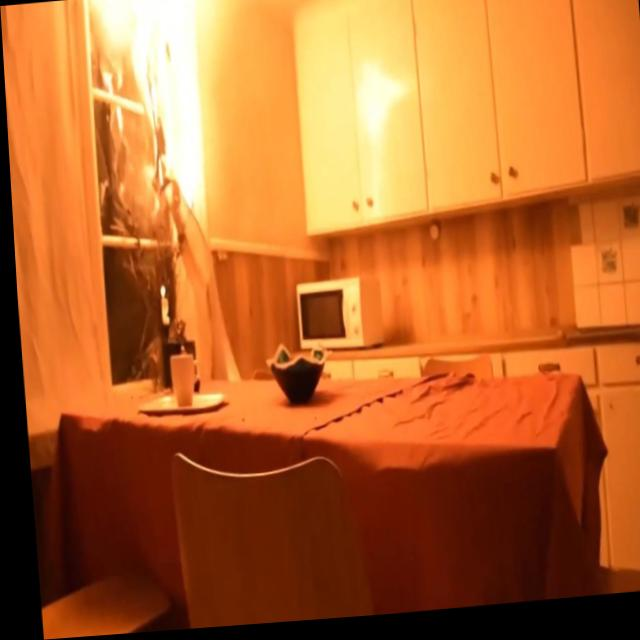fire: (97, 0, 206, 227), (156, 282, 163, 299)
